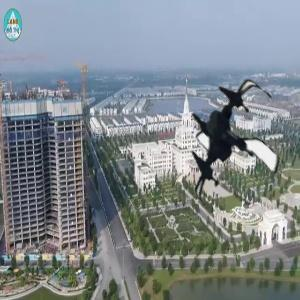drone: (168, 80, 293, 205)
